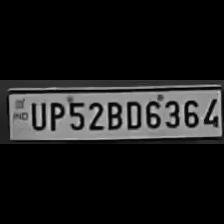2: (86, 98, 104, 132)
3: (163, 96, 179, 130)
4: (200, 95, 220, 127)
5: (65, 98, 85, 130)
6: (142, 97, 160, 129), (180, 96, 198, 128)
B: (104, 98, 122, 130)
D: (122, 97, 142, 130)
P: (46, 99, 64, 131)
U: (27, 99, 46, 130)
